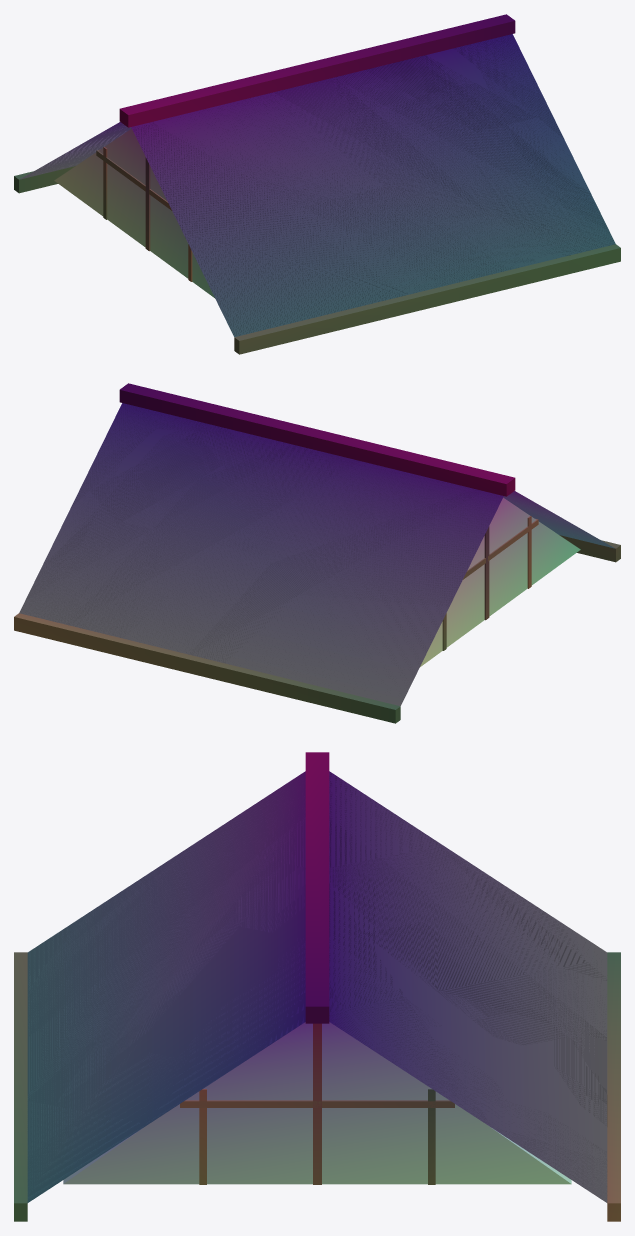
File: roof_gable_7m.glb
3 renders of one model, top to bottom at view 1: azimuth 30°, elevation 25°; view 2: azimuth 150°, elevation 25°; view 3: azimuth 270°, elevation 25°, orthographic. The views are drawn at different scales.
Visible parts, largest first — view 1: slope, ridge, gables, kingposts, slope.001; view 2: slope.001, ridge, gables, kingposts, slope; view 3: slope, slope.001, gables, ridge, kingposts.
Boxes of the visible parts, box(x1,y1,x2,y2) form: slope: box(131, 34, 615, 337); ridge: box(14, 14, 620, 354); gables: box(54, 128, 214, 297); kingposts: box(96, 147, 192, 281); slope.001: box(20, 122, 131, 179); slope.001: box(19, 403, 503, 706); ridge: box(14, 383, 620, 723); gables: box(420, 497, 580, 666); kingposts: box(442, 516, 538, 650); slope: box(503, 491, 614, 548); slope: box(27, 771, 305, 1202); slope.001: box(329, 771, 607, 1202); gables: box(63, 1022, 571, 1184); ridge: box(14, 752, 620, 1221); kingposts: box(180, 1023, 454, 1184).
Bounding box in the file's own units: 7.1 × 2.82 × 7.16.
